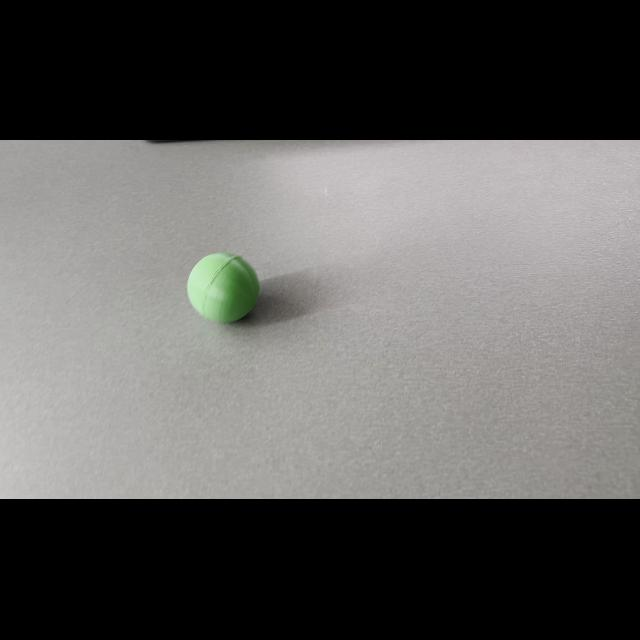objects: (184, 246, 264, 330)
